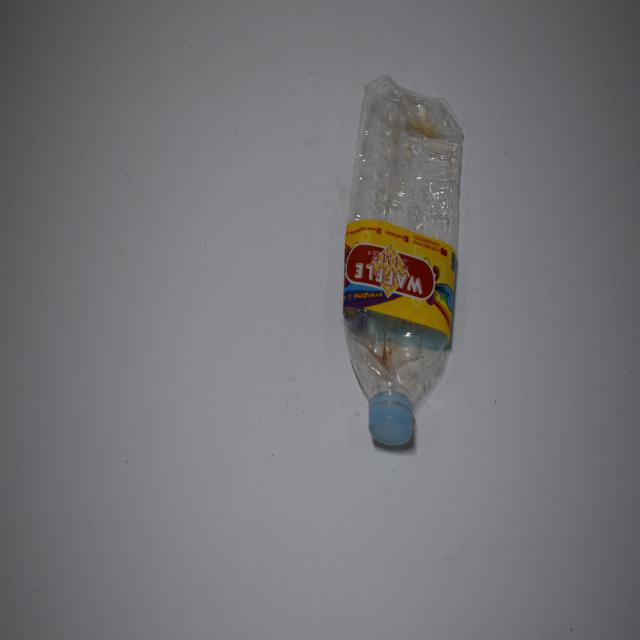plastic: (340, 70, 465, 458)
